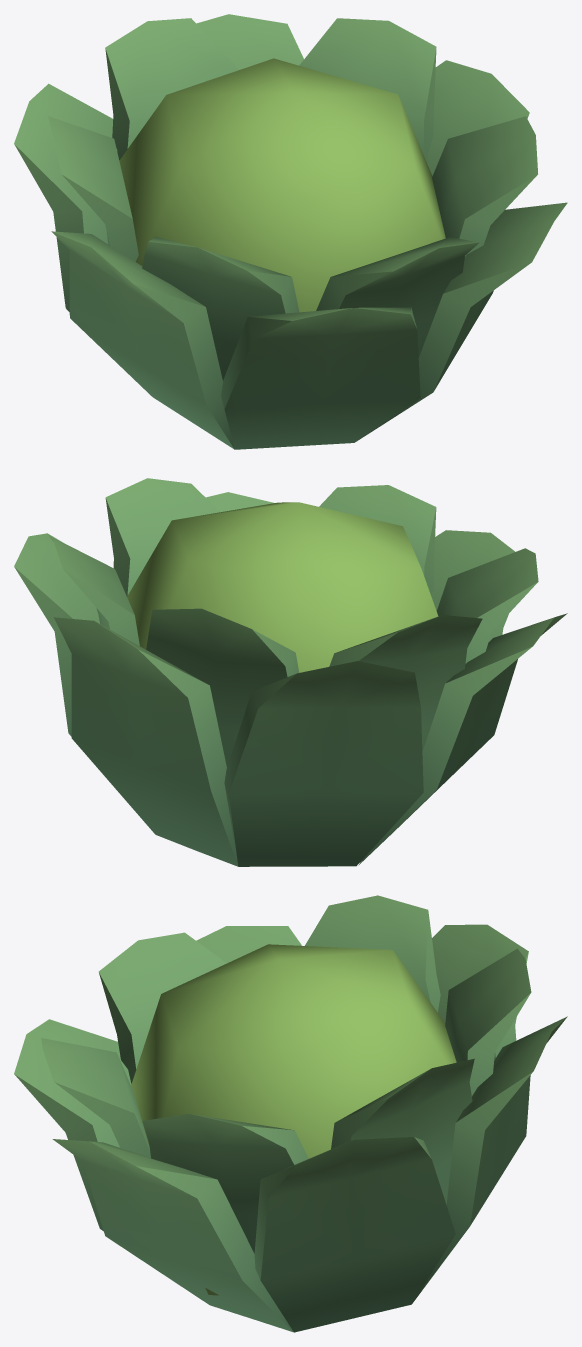
Rendered from FarmCabbage.fbx.
3 views of the same model, one above another, from view 1: azimuth 30°, elevation 25°; view 2: azimuth 150°, elevation 25°; view 3: azimuth 270°, elevation 25° (orthographic).
Parts seen in each view (by area): view 1: FarmCabbage; view 2: FarmCabbage; view 3: FarmCabbage.
Part boxes in pixels (box(x1,y1,x2,y2)): FarmCabbage: box(14, 14, 567, 449); FarmCabbage: box(14, 478, 567, 866); FarmCabbage: box(14, 895, 567, 1332).
Bounding box in the file's own units: 1.5 × 0.9833 × 1.48.
